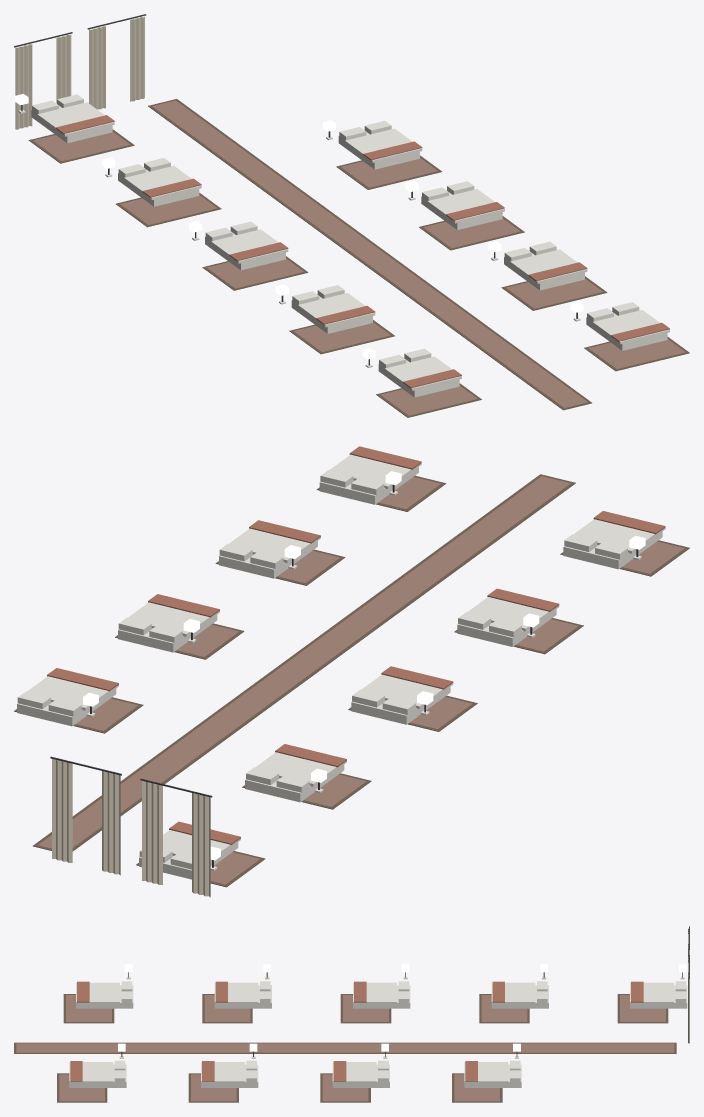
Rendered from fine-s1.glb.
The picture shows the model from 3 angles, top to bottom: view 1: azimuth 30°, elevation 25°; view 2: azimuth 150°, elevation 25°; view 3: azimuth 270°, elevation 25°; orthographic projection. The views are drawn at different scales.
Parts seen in each view (by area): view 1: soft-s1; view 2: soft-s1; view 3: soft-s1.
Boxes of the visible parts, box(x1,y1,x2,y2) form: soft-s1: box(14, 14, 689, 417); soft-s1: box(14, 446, 689, 897); soft-s1: box(14, 926, 689, 1102).
Bounding box in the file's own units: 8.66 × 2.51 × 22.72.
